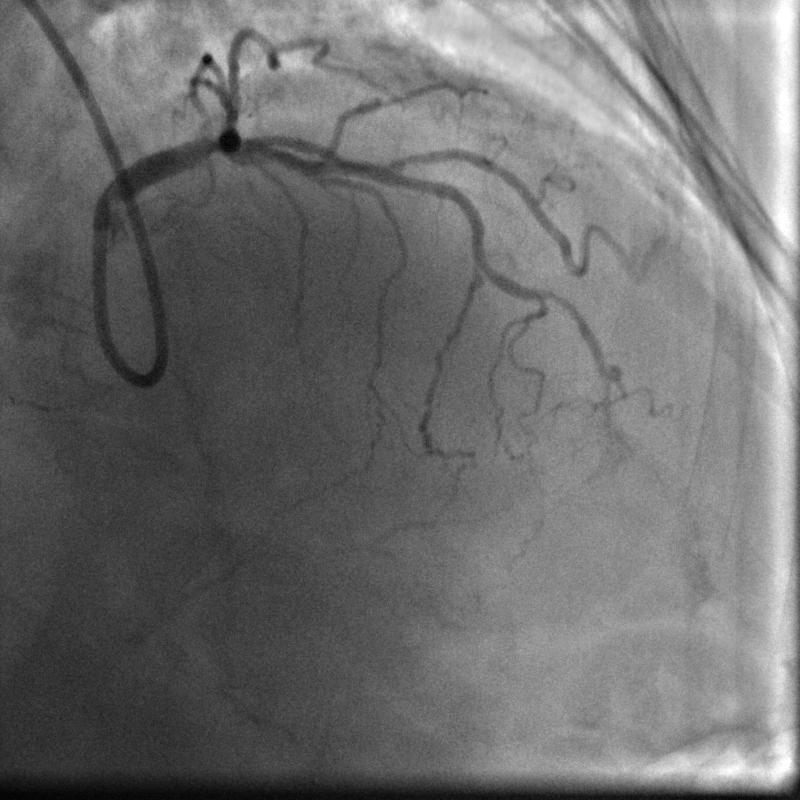Stenosis: (194, 122, 223, 165)
